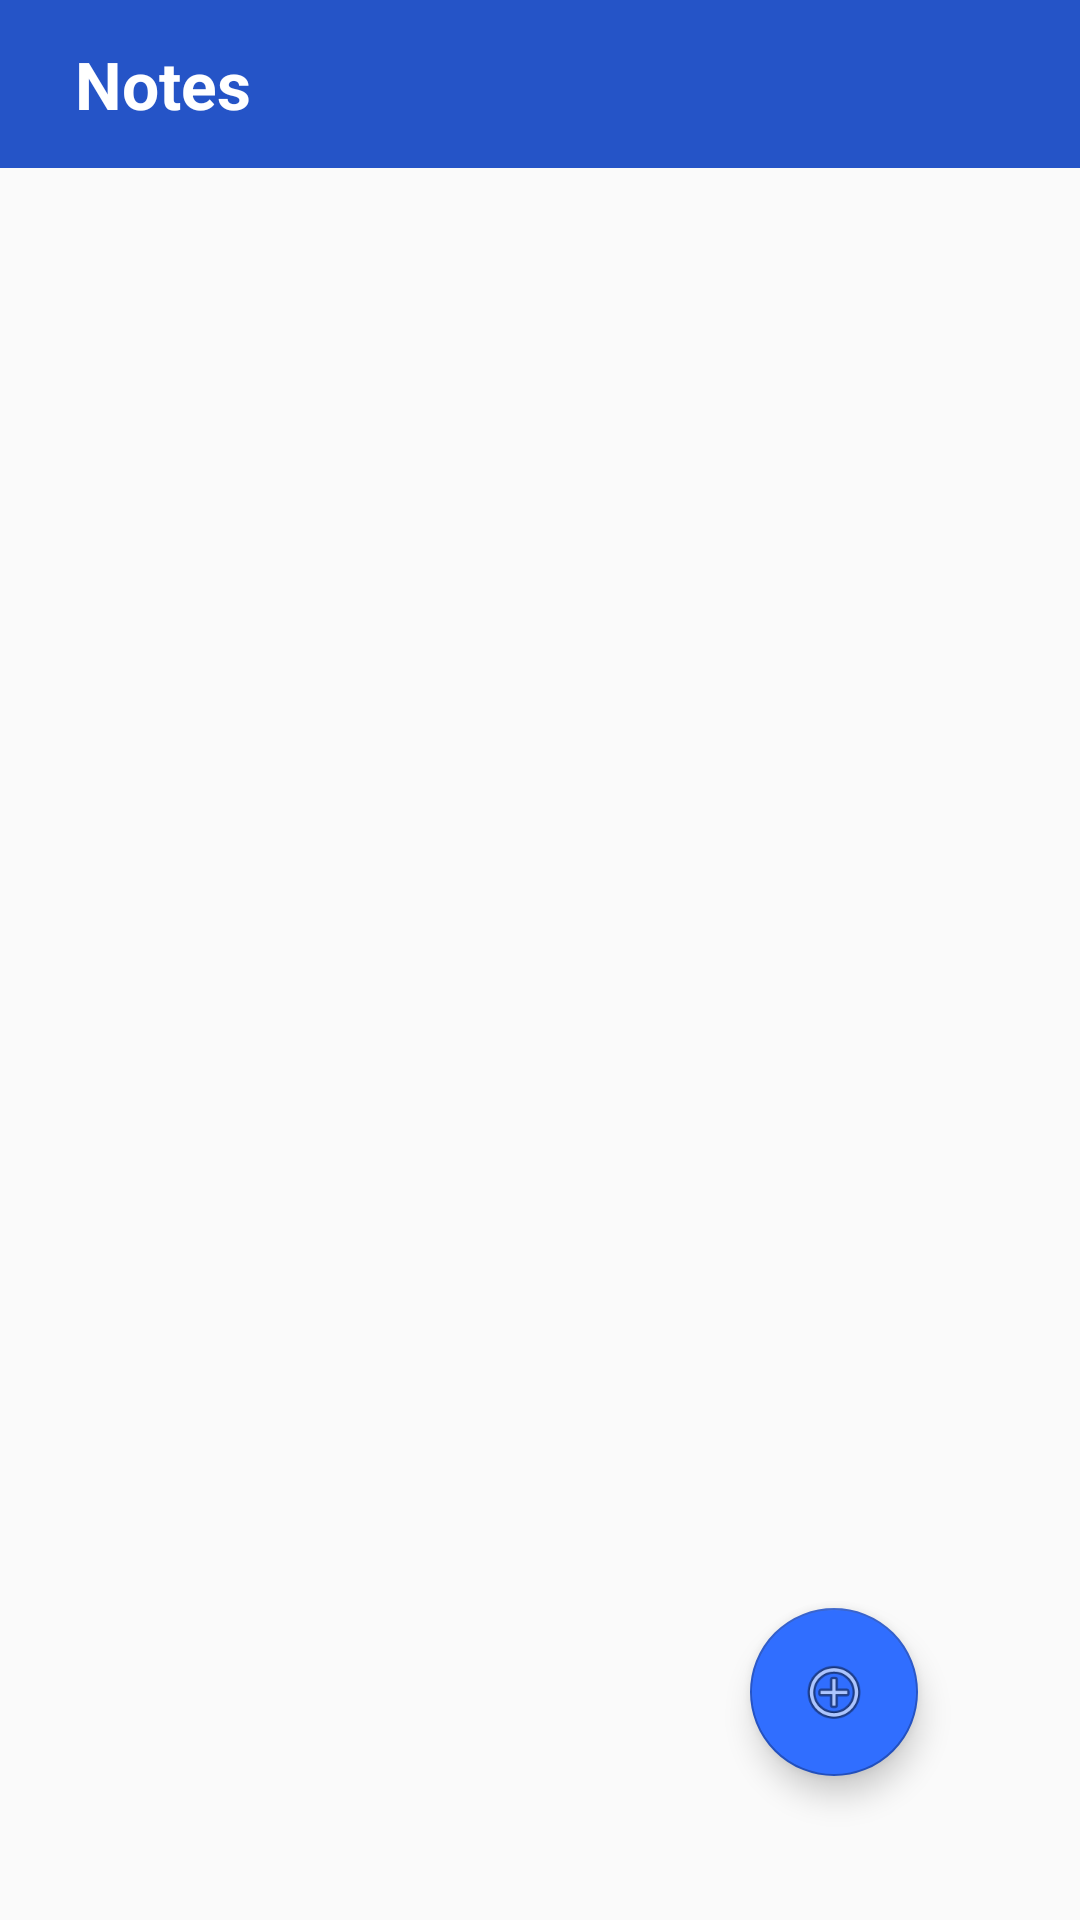

Where to tap for icons on this 1080x1920 app screen, as (x=x, y=y):
add: (x=834, y=1692)
